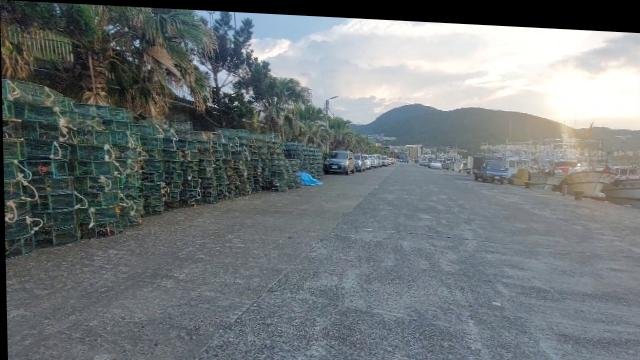pollute: (295, 166, 322, 182)
